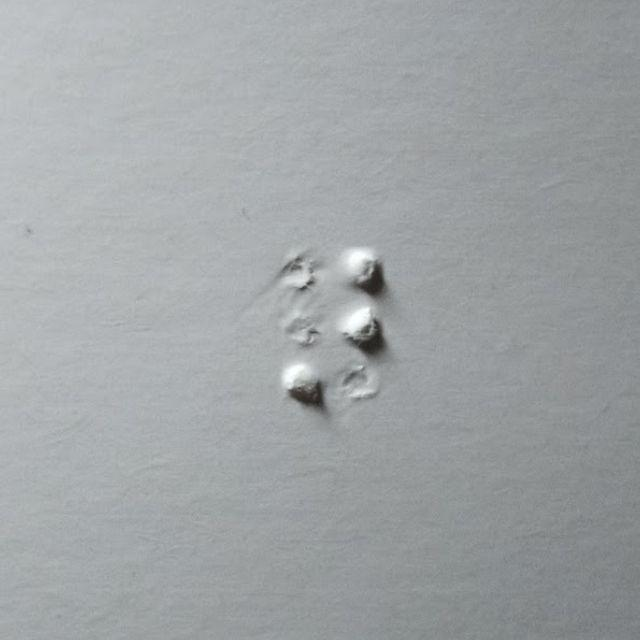araw: (282, 250, 389, 407)
